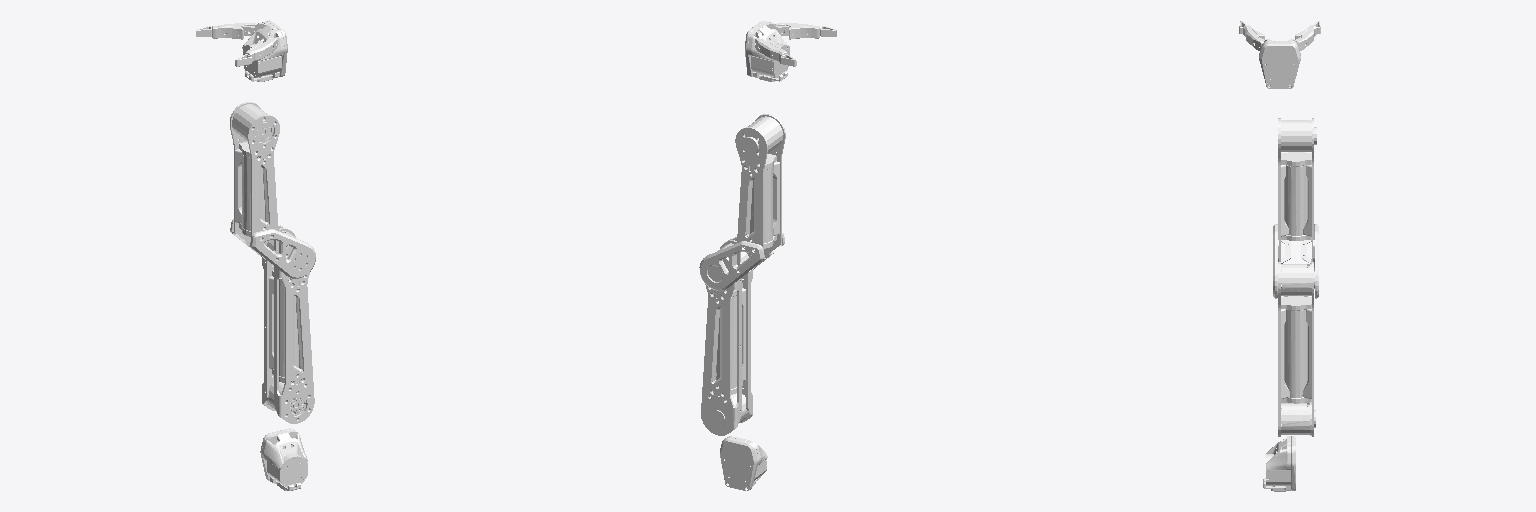
robot.urdf — firefly_y6_gr100:
<?xml version="1.0" encoding="utf-8"?>
<!-- Firefly Y6 6-DOF arm + GR100 lobster-claw gripper + TCP ee_link -->
<!-- Full kinematic model for visualization (soda-ui), MuJoCo sim, CuRoBo collision. -->
<!-- Gripper command protocol: single angle in [0, 0.57] rad drives gripper_left_joint_1;
     right claw mirrors via <mimic>. Matches existing hardware 7-DoF cmd layout. -->
<robot name="firefly_y6_gr100">

    <!-- ==================== ARM ==================== -->
    <link name="base_link">
        <inertial>
            <origin xyz="-0.00015122 -0.00000305 0.04925993" rpy="0 0 0" />
            <mass value="0.87430597" />
            <inertia ixx="0.0013187" ixy="0.00000009" ixz="-0.00000212" iyy="0.00133505" iyz="0.00000013" izz="0.0010065" />
        </inertial>
        <visual>
            <origin xyz="0 0 0" rpy="0 0 0" />
            <geometry>
                <mesh filename="package://xpkg_urdf_firefly_y6/meshes/base_link.STL" />
            </geometry>
            <material name=""><color rgba="1 1 1 1" /></material>
        </visual>
        <collision>
            <origin xyz="0 0 0" rpy="0 0 0" />
            <geometry>
                <mesh filename="package://xpkg_urdf_firefly_y6/meshes/base_link.STL" />
            </geometry>
        </collision>
    </link>

    <link name="link_1">
        <inertial>
            <origin xyz="0.00671535 -0.00275632 0.02393862" rpy="0 0 0" />
            <mass value="0.25449622" />
            <inertia ixx="0.00036700" ixy="0.00000933" ixz="-0.00004363" iyy="0.00022812" iyz="0.00001848" izz="0.00032440" />
        </inertial>
        <visual>
            <origin xyz="0 0 0" rpy="0 0 0" />
            <geometry>
                <mesh filename="package://xpkg_urdf_firefly_y6/meshes/link_1.STL" />
            </geometry>
            <material name=""><color rgba="1 1 1 1" /></material>
        </visual>
        <collision>
            <origin xyz="0 0 0" rpy="0 0 0" />
            <geometry>
                <mesh filename="package://xpkg_urdf_firefly_y6/meshes/link_1.STL" />
            </geometry>
        </collision>
    </link>
    <joint name="joint_1" type="revolute">
        <origin xyz="0 0 0.09505" rpy="0 0 0" />
        <parent link="base_link" />
        <child link="link_1" />
        <axis xyz="0 0 1" />
        <limit lower="-2.86" upper="2.86" effort="6" velocity="6" />
    </joint>

    <link name="link_2">
        <inertial>
            <origin xyz="-0.00065196 0.00050605 0.13439379" rpy="0 0 0" />
            <mass value="1.28270343" />
            <inertia ixx="0.01969749" ixy="-0.00000048" ixz="0.00002449" iyy="0.01949532" iyz="0.00000402" izz="0.00071320" />
        </inertial>
        <visual>
            <origin xyz="0 0 0" rpy="0 0 0" />
            <geometry>
                <mesh filename="package://xpkg_urdf_firefly_y6/meshes/link_2.STL" />
            </geometry>
            <material name=""><color rgba="1 1 1 1" /></material>
        </visual>
        <collision>
            <origin xyz="0 0 0" rpy="0 0 0" />
            <geometry>
                <mesh filename="package://xpkg_urdf_firefly_y6/meshes/link_2.STL" />
            </geometry>
        </collision>
    </link>
    <joint name="joint_2" type="revolute">
        <origin xyz="0.02 0 0.05" rpy="0 0 0" />
        <parent link="link_1" />
        <child link="link_2" />
        <axis xyz="0 1 0" />
        <limit lower="-1.57" upper="2.09" effort="6" velocity="6" />
    </joint>

    <link name="link_3">
        <inertial>
            <origin xyz="-0.05668605 -0.00287518  0.15455959" rpy="0 0 0" />
            <mass value="0.93588267" />
            <inertia ixx="0.00983649" ixy="0.00007803" ixz="0.00124619" iyy="0.00991413" iyz="-0.00026866" izz="0.00104920" />
        </inertial>
        <visual>
            <origin xyz="0 0 0" rpy="0 0 0" />
            <geometry>
                <mesh filename="package://xpkg_urdf_firefly_y6/meshes/link_3.STL" />
            </geometry>
            <material name=""><color rgba="1 1 1 1" /></material>
        </visual>
        <collision>
            <origin xyz="0 0 0" rpy="0 0 0" />
            <geometry>
                <mesh filename="package://xpkg_urdf_firefly_y6/meshes/link_3.STL" />
            </geometry>
        </collision>
    </link>
    <joint name="joint_3" type="revolute">
        <origin xyz="0 0 0.27" rpy="0 0 0" />
        <parent link="link_2" />
        <child link="link_3" />
        <axis xyz="0 1 0" />
        <limit lower="0" upper="3.14" effort="6" velocity="6" />
    </joint>

    <link name="link_4">
        <inertial>
            <origin xyz="-0.05184192 -0.00200161 0.04855136" rpy="0 0 0" />
            <mass value="0.55059939" />
            <inertia ixx="0.00075566" ixy="0.00005198" ixz="0.00037393" iyy="0.00098159" iyz="-0.00004878" izz="0.00079856" />
        </inertial>
        <visual>
            <origin xyz="0 0 0" rpy="0 0 0" />
            <geometry>
                <mesh filename="package://xpkg_urdf_firefly_y6/meshes/link_4.STL" />
            </geometry>
            <material name=""><color rgba="1 1 1 1" /></material>
        </visual>
        <collision>
            <origin xyz="0 0 0" rpy="0 0 0" />
            <geometry>
                <mesh filename="package://xpkg_urdf_firefly_y6/meshes/link_4.STL" />
            </geometry>
        </collision>
    </link>
    <joint name="joint_4" type="revolute">
        <origin xyz="-0.065 0 0.25" rpy="0 0 0" />
        <parent link="link_3" />
        <child link="link_4" />
        <axis xyz="0 1 0" />
        <limit lower="-1.57" upper="1.57" effort="6" velocity="6" />
    </joint>

    <link name="link_5">
        <inertial>
            <origin xyz="0.04236212 -0.00000333 0.00771096" rpy="0 0 0" />
            <mass value="0.41052864" />
            <inertia ixx="0.0001862" ixy="-0.00000002" ixz="-0.00001795" iyy="0.00025554" iyz="-0.00000002" izz="0.0002374" />
        </inertial>
        <visual>
            <origin xyz="0 0 0" rpy="0 0 0" />
            <geometry>
                <mesh filename="package://xpkg_urdf_firefly_y6/meshes/link_5.STL" />
            </geometry>
            <material name=""><color rgba="1 1 1 1" /></material>
        </visual>
        <collision>
            <origin xyz="0 0 0" rpy="0 0 0" />
            <geometry>
                <mesh filename="package://xpkg_urdf_firefly_y6/meshes/link_5.STL" />
            </geometry>
        </collision>
    </link>
    <joint name="joint_5" type="revolute">
        <origin xyz="-0.047 0 0.065" rpy="0 0 0" />
        <parent link="link_4" />
        <child link="link_5" />
        <axis xyz="-1 0 0" />
        <limit lower="-1.54" upper="1.54" effort="6" velocity="6" />
    </joint>

    <link name="link_6">
        <inertial>
            <origin xyz="-0.00048907 0 0.0034393" rpy="0 0 0" />
            <mass value="0.0076012" />
            <inertia ixx="0.00000089" ixy="0" ixz="0" iyy="0.00000065" iyz="0" izz="0.00000143" />
        </inertial>
        <visual>
            <origin xyz="0 0 0" rpy="0 0 0" />
            <geometry>
                <mesh filename="package://xpkg_urdf_firefly_y6/meshes/link_6.STL" />
            </geometry>
            <material name=""><color rgba="1 1 1 1" /></material>
        </visual>
        <collision>
            <origin xyz="0 0 0" rpy="0 0 0" />
            <geometry>
                <mesh filename="package://xpkg_urdf_firefly_y6/meshes/link_6.STL" />
            </geometry>
        </collision>
    </link>
    <joint name="joint_6" type="revolute">
        <origin xyz="0.047 0 0.034" rpy="0 0 0" />
        <parent link="link_5" />
        <child link="link_6" />
        <axis xyz="0 0 1" />
        <limit lower="-2.79" upper="2.79" effort="6" velocity="6" />
    </joint>

    <!-- ==================== GRIPPER (GR100 lobster claw) ==================== -->
    <!-- Gripper base attached to link_6. Orientation rpy=(0, -pi/2, 0) matches
         the archer_l6y+gp100 convention so gripper extends forward from link_6. -->
    <link name="gripper_base_link">
        <inertial>
            <origin xyz="-0.00386337 0.00001755 0.04222242" rpy="0 0 0" />
            <mass value="0.47163661" />
            <inertia ixx="0.00032421" ixy="0.00000064" ixz="0.00004032"
                     iyy="0.00032388" iyz="0.00000041" izz="0.00022576" />
        </inertial>
        <visual>
            <origin xyz="0 0 0" rpy="0 0 0" />
            <geometry>
                <mesh filename="package://xpkg_urdf_gr100/meshes/base_link.STL" />
            </geometry>
            <material name=""><color rgba="1 1 1 1" /></material>
        </visual>
        <collision>
            <origin xyz="0 0 0" rpy="0 0 0" />
            <geometry>
                <mesh filename="package://xpkg_urdf_gr100/meshes/base_link.STL" />
            </geometry>
        </collision>
    </link>
    <joint name="gripper_base_joint" type="fixed">
        <!-- Tianyi 总装 gripper mounted to link_6 with rpy(0,0,-90deg). -->
        <origin xyz="0 0 0" rpy="0 0 -1.5707963" />
        <parent link="link_6" />
        <child link="gripper_base_link" />
    </joint>

    <!-- Left claw (driven joint - this is the one hardware cmd[6] drives) -->
    <link name="gripper_left_link_1">
        <inertial>
            <origin xyz="0.01344478 -0.02402636 0.03494436" rpy="0 0 0" />
            <mass value="0.02806607" />
            <inertia ixx="0.00002286" ixy="0.00000088" ixz="-0.00000130"
                     iyy="0.00001838" iyz="0.00000883" izz="0.00000630" />
        </inertial>
        <visual>
            <origin xyz="0 0 0" rpy="0 0 0" />
            <geometry>
                <mesh filename="package://xpkg_urdf_gr100/meshes/L1.STL" />
            </geometry>
            <material name=""><color rgba="1 1 1 1" /></material>
        </visual>
        <collision>
            <origin xyz="0 0 0" rpy="0 0 0" />
            <geometry>
                <mesh filename="package://xpkg_urdf_gr100/meshes/L1.STL" />
            </geometry>
        </collision>
    </link>
    <joint name="gripper_left_joint_1" type="revolute">
        <origin xyz="-0.015 0.01475 0.07679888" rpy="0 1.57079633 -1.57079633" />
        <parent link="gripper_base_link" />
        <child link="gripper_left_link_1" />
        <axis xyz="0 0 1" />
        <limit lower="0.0" upper="0.9" effort="5" velocity="10" />
    </joint>

    <!-- Right claw (mimics left for visualization; hardware does the real mirroring) -->
    <link name="gripper_right_link_1">
        <inertial>
            <origin xyz="0.01341406 0.02402380 0.03494613" rpy="0 0 0" />
            <mass value="0.02806607" />
            <inertia ixx="0.00002286" ixy="-0.00000087" ixz="-0.00000129"
                     iyy="0.00001838" iyz="-0.00000883" izz="0.00000629" />
        </inertial>
        <visual>
            <origin xyz="0 0 0" rpy="0 0 0" />
            <geometry>
                <mesh filename="package://xpkg_urdf_gr100/meshes/L2.STL" />
            </geometry>
            <material name=""><color rgba="1 1 1 1" /></material>
        </visual>
        <collision>
            <origin xyz="0 0 0" rpy="0 0 0" />
            <geometry>
                <mesh filename="package://xpkg_urdf_gr100/meshes/L2.STL" />
            </geometry>
        </collision>
    </link>
    <joint name="gripper_right_joint_1" type="revolute">
        <origin xyz="0.015 0.01475 0.07679888" rpy="0 1.57079633 -1.57079633" />
        <parent link="gripper_base_link" />
        <child link="gripper_right_link_1" />
        <axis xyz="0 0 1" />
        <limit lower="-0.9" upper="0.9" effort="5" velocity="10" />
        <mimic joint="gripper_left_joint_1" multiplier="-1.0" offset="0" />
    </joint>

    <!-- TCP. 0.15m placeholder along gripper's +X (fingertip contact point).
         Measure from actual hardware and update tcp_offset in configs/base.yaml. -->
    <link name="ee_link">
        <inertial>
            <origin xyz="0 0 0" rpy="0 0 0" />
            <mass value="0.001" />
            <inertia ixx="0.000001" ixy="0" ixz="0" iyy="0.000001" iyz="0" izz="0.000001" />
        </inertial>
    </link>
    <joint name="ee_joint" type="fixed">
        <!-- TCP at 0.187m along gripper +Z (measured from gripper_base_link origin to fingertip contact point). -->
        <origin xyz="0 0 0.187" rpy="0 0 0" />
        <parent link="gripper_base_link" />
        <child link="ee_link" />
    </joint>

</robot>

--- Facts derived from the render (not from the file) ---
3 views of the same robot in one strip: view 1: azimuth 30°, elevation 25°; view 2: azimuth 150°, elevation 25°; view 3: azimuth 270°, elevation 25° (orthographic).
Model firefly_y6_gr100 with 11 links and 10 joints (8 revolute, 2 fixed), rooted at base_link, posed every joint at zero.
Links seen in each view (by area): view 1: link_3, link_2, base_link, gripper_base_link, gripper_left_link_1, gripper_right_link_1; view 2: link_3, link_2, base_link, gripper_base_link, gripper_right_link_1, gripper_left_link_1; view 3: link_2, link_3, gripper_base_link, base_link.
Link boxes in pixels (<box>): link_3: <box>230,102,315,278</box>; link_2: <box>262,228,314,423</box>; base_link: <box>260,428,307,490</box>; gripper_base_link: <box>242,20,287,81</box>; gripper_left_link_1: <box>196,23,265,39</box>; gripper_right_link_1: <box>235,30,277,66</box>; link_3: <box>699,114,785,290</box>; link_2: <box>701,240,752,435</box>; base_link: <box>720,436,767,490</box>; gripper_base_link: <box>745,21,789,81</box>; gripper_right_link_1: <box>767,23,836,39</box>; gripper_left_link_1: <box>755,31,796,66</box>; link_2: <box>1278,262,1315,436</box>; link_3: <box>1273,118,1318,298</box>; gripper_base_link: <box>1259,41,1300,88</box>; base_link: <box>1263,436,1295,491</box>.
Bounding box of the posed robot: 0.1896 × 0.1439 × 0.8565 m (x, y, z).
Meshes: 10 distinct files referenced, 6 mesh visuals loaded (5 binary STL); not drawn: 4 (reference not matched to a file when rendering).
